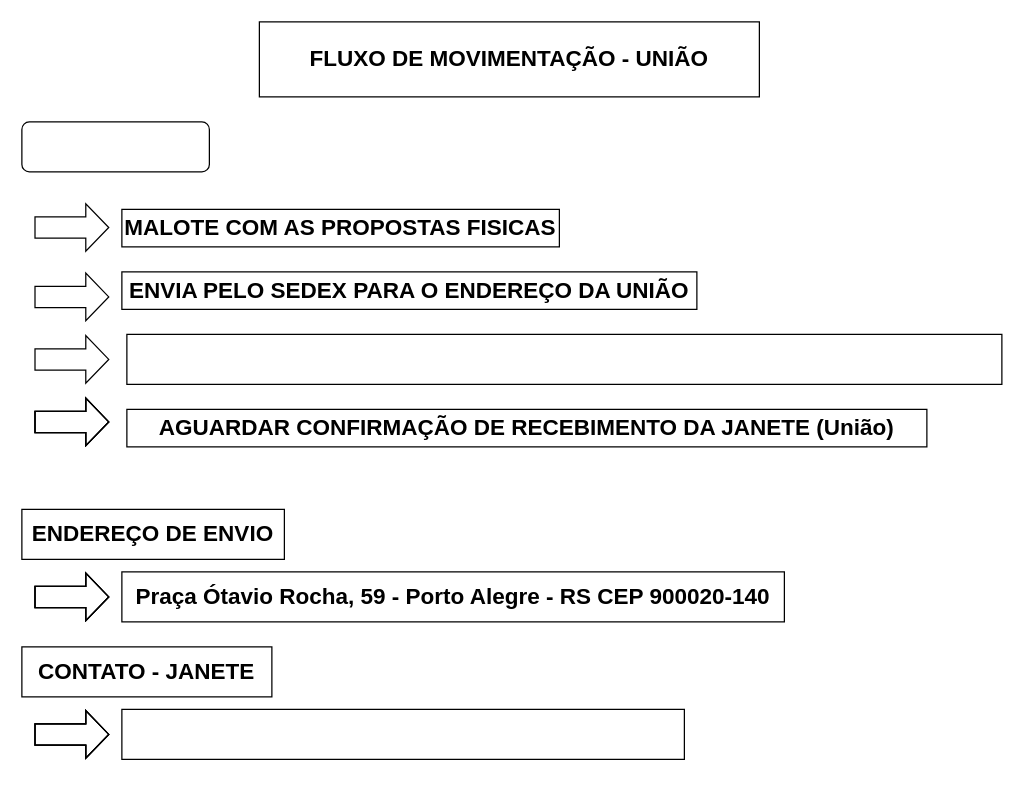
The diagram is 1024 pixels wide and 793 high, and some of its shapes have lost their labels. The shapes that lost their labels are listed below. From the top down, each one's box as (x1, y1, x2, y2) in pixels, then its label:
(21, 121, 209, 172): MALOTE
(126, 333, 1002, 384): INFORMAR A QUANTIDADE DE VIDAS E O CÓDIGO DE RASTREIO NA PLANILHA DE LOTEAMENTO
(121, 708, 684, 759): +55(51) 3014-4877 | assessoriacomercial@uniaoseguradora.com.br
